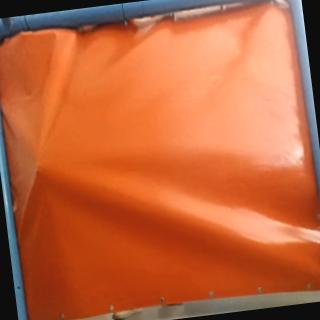Hit-hRxx: (32, 165, 48, 179)
